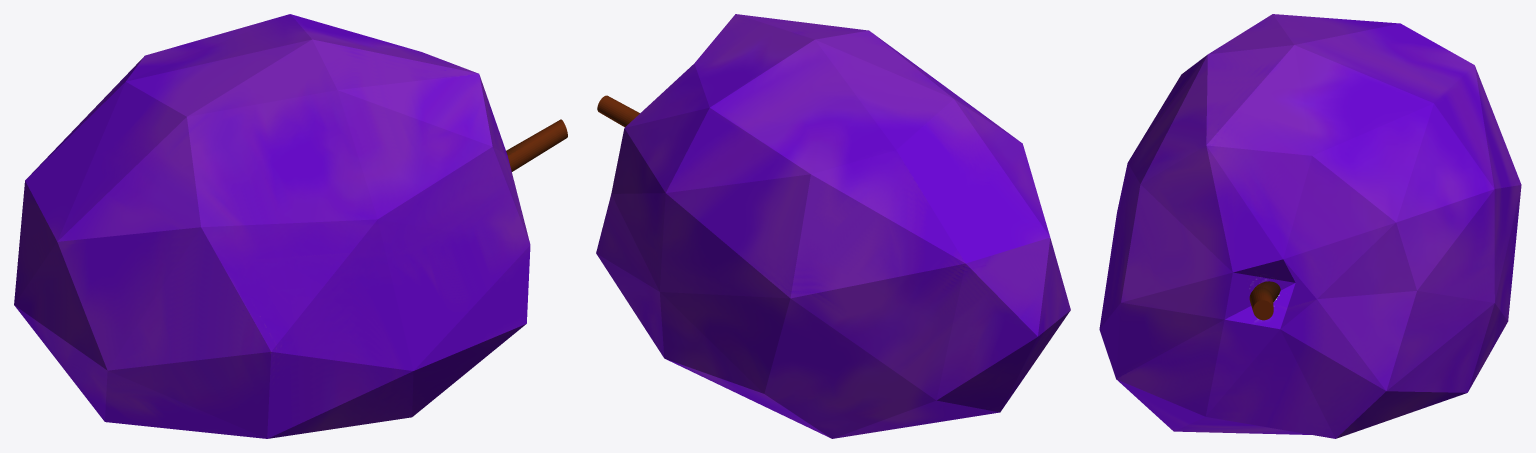
Rendered from plum.gltf.
The picture shows the model from 3 angles, left to right: view 1: azimuth 30°, elevation 25°; view 2: azimuth 150°, elevation 25°; view 3: azimuth 270°, elevation 25°; orthographic projection. The views are drawn at different scales.
Visible parts, largest first — view 1: Icosphere; view 2: Icosphere; view 3: Icosphere.
Boxes of the visible parts, x1,y1,x2,y2 form: Icosphere: (14, 14, 567, 438); Icosphere: (596, 14, 1070, 438); Icosphere: (1099, 14, 1521, 438).
Bounding box in the file's own units: 0.2095 × 0.146 × 0.144.
1 material, 1 textured.
